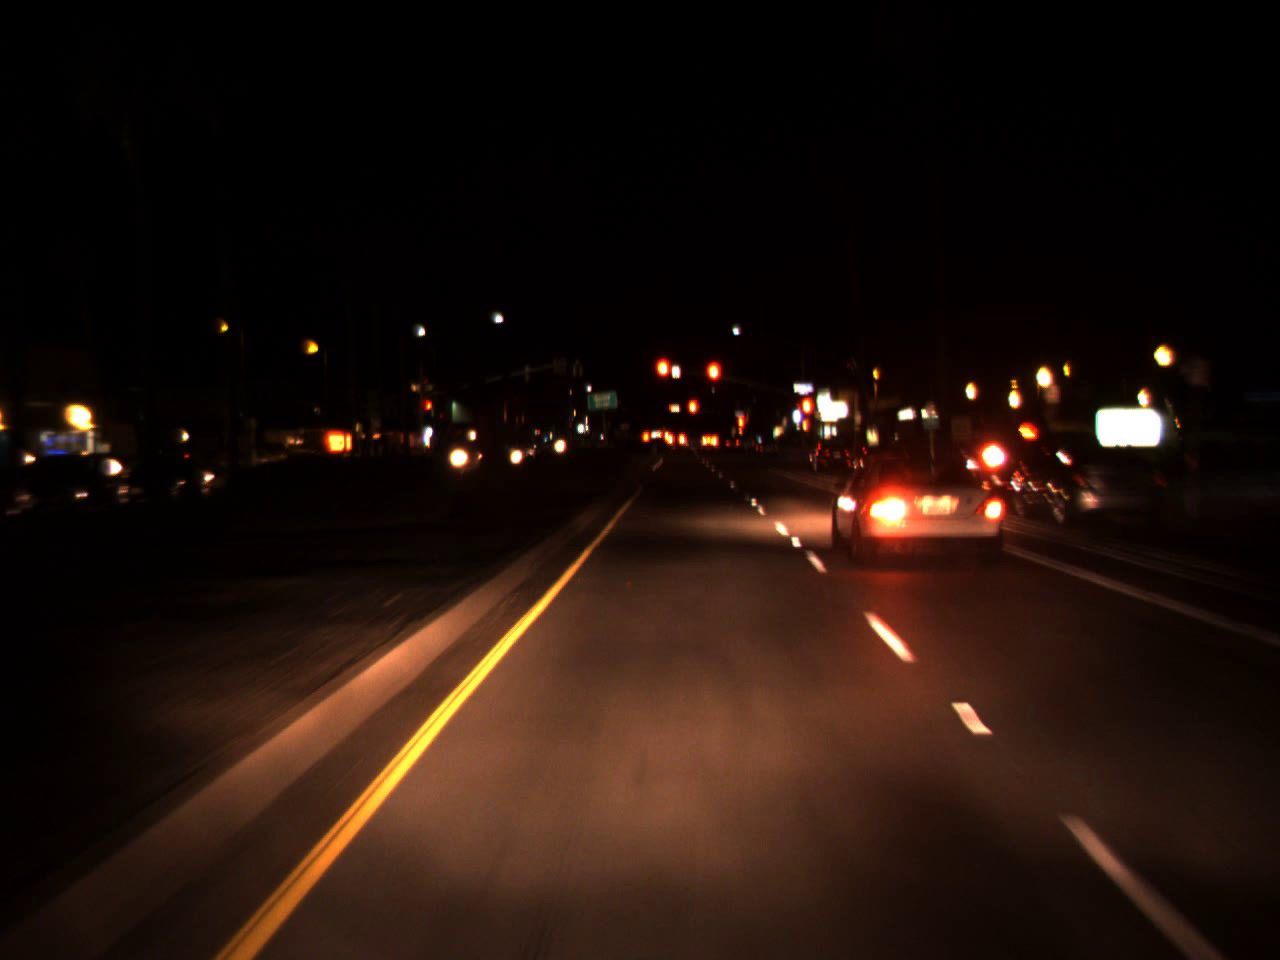stop: (653, 354, 675, 399), (703, 358, 722, 403), (736, 411, 745, 459), (687, 398, 699, 430), (801, 397, 813, 421), (424, 400, 433, 421)
